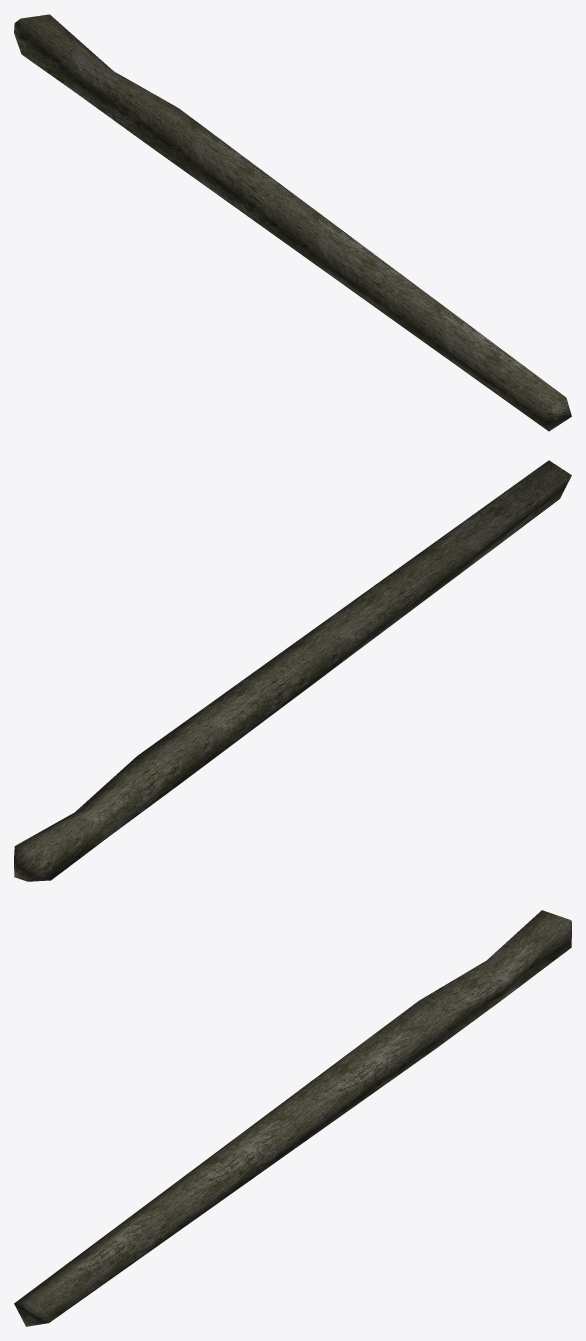
The model's file is TI_Pillar_02.fbx.
The picture shows the model from 3 angles, top to bottom: view 1: azimuth 30°, elevation 25°; view 2: azimuth 150°, elevation 25°; view 3: azimuth 330°, elevation 25°; orthographic projection.
Parts seen in each view (by area): view 1: TI_Pillar_02; view 2: TI_Pillar_02; view 3: TI_Pillar_02.
Boxes of the visible parts, <box> form: TI_Pillar_02: <box>14,14,571,431</box>; TI_Pillar_02: <box>14,460,571,881</box>; TI_Pillar_02: <box>14,910,571,1326</box>.
Size of the model in its own units: 0.466 by 0.5126 by 11.57.
